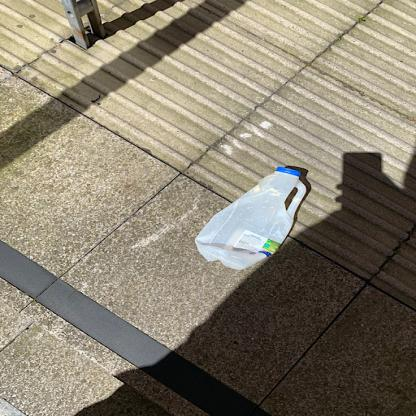trash: (194, 166, 306, 272)
